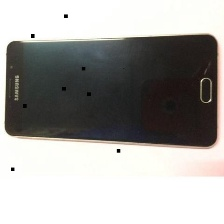phone: (0, 29, 222, 154)
